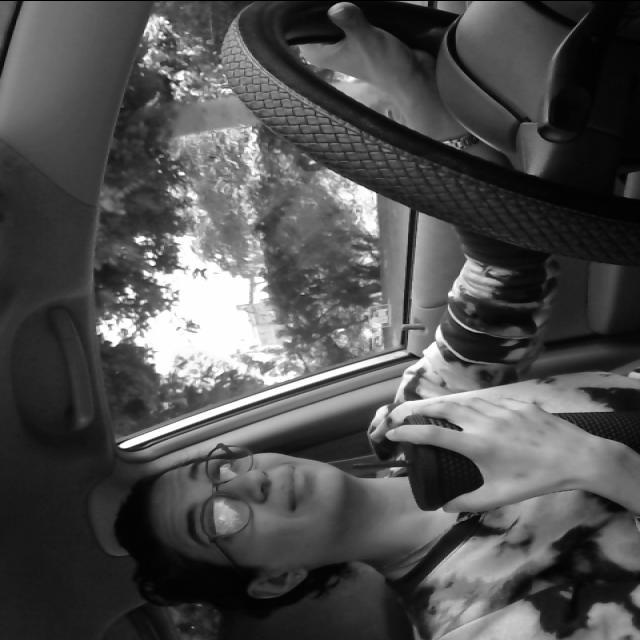drinking: (345, 403, 640, 514)
